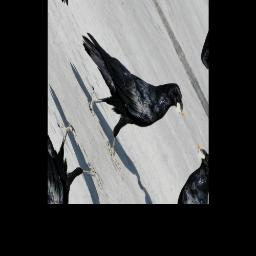Crow: (61, 0, 190, 182)
